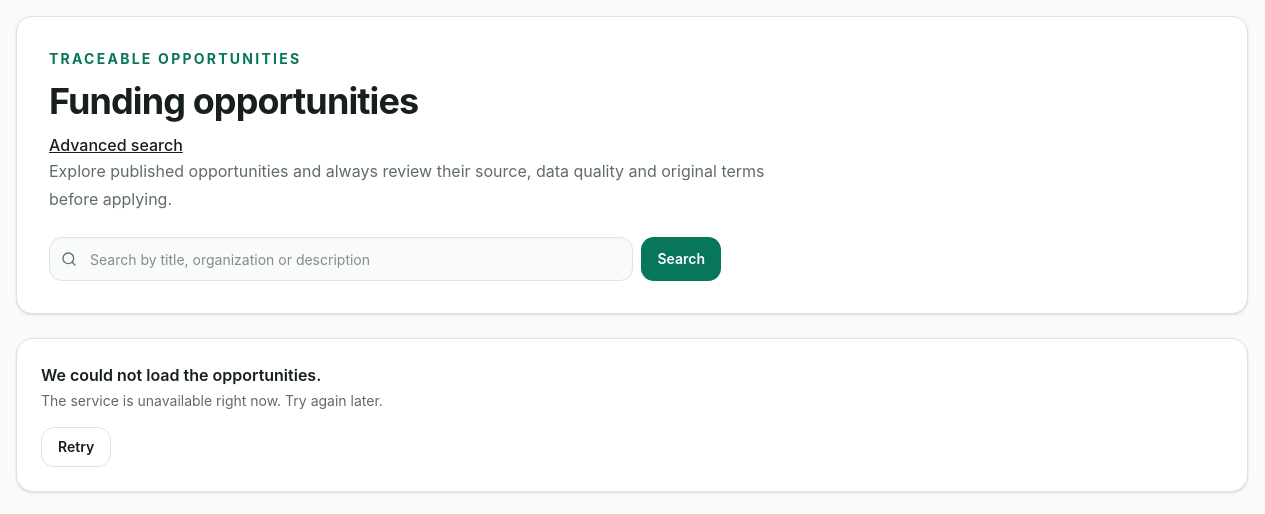
Test: funding catalog language changes › translates a visible error, retries only on request, and displays the empty state
Expected: the message is shown, [41, 365, 383, 467]
Expected: the message shows "The service is unavailable right now. Try again later.", [41, 392, 383, 409]
Step 1. Click the button "Retry" → [76, 447], box [41, 427, 111, 467]
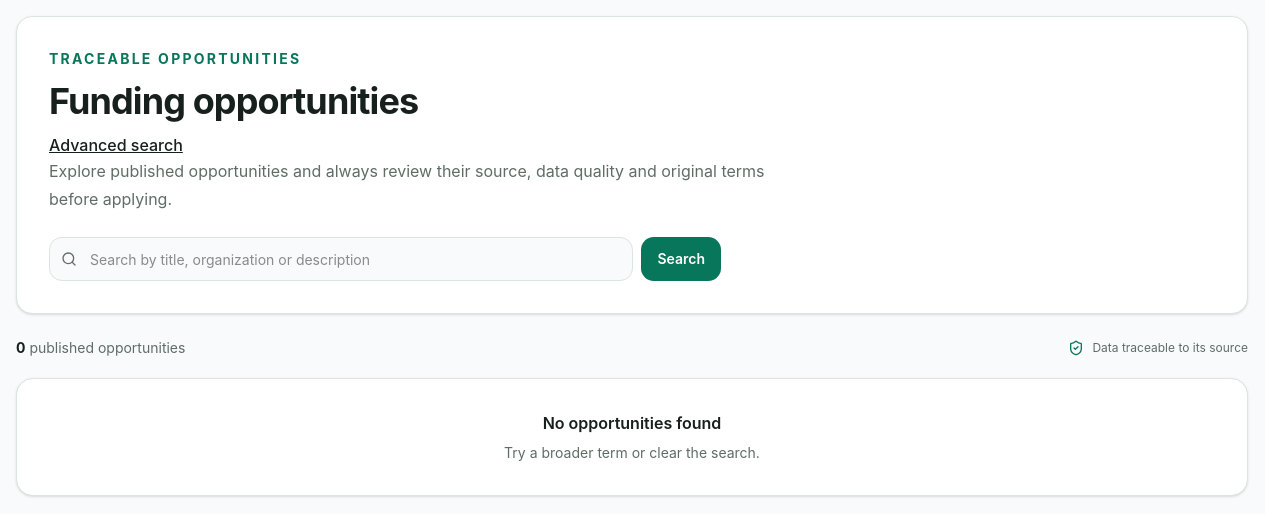
Expected: the heading "No opportunities found" is shown, [543, 413, 721, 433]
